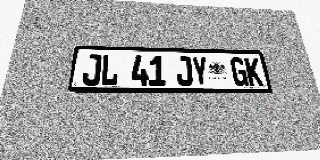1: (149, 56, 165, 86)
4: (131, 55, 148, 86)
G: (230, 57, 249, 86)
J: (81, 54, 102, 85), (175, 56, 193, 86)
K: (244, 58, 264, 86)
L: (100, 54, 119, 86)
Y: (191, 56, 209, 86)
